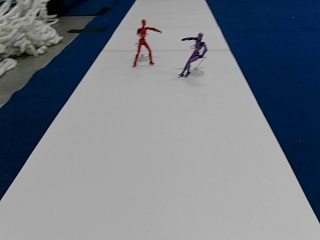pedestrian: (133, 19, 162, 67), (180, 30, 207, 77)
